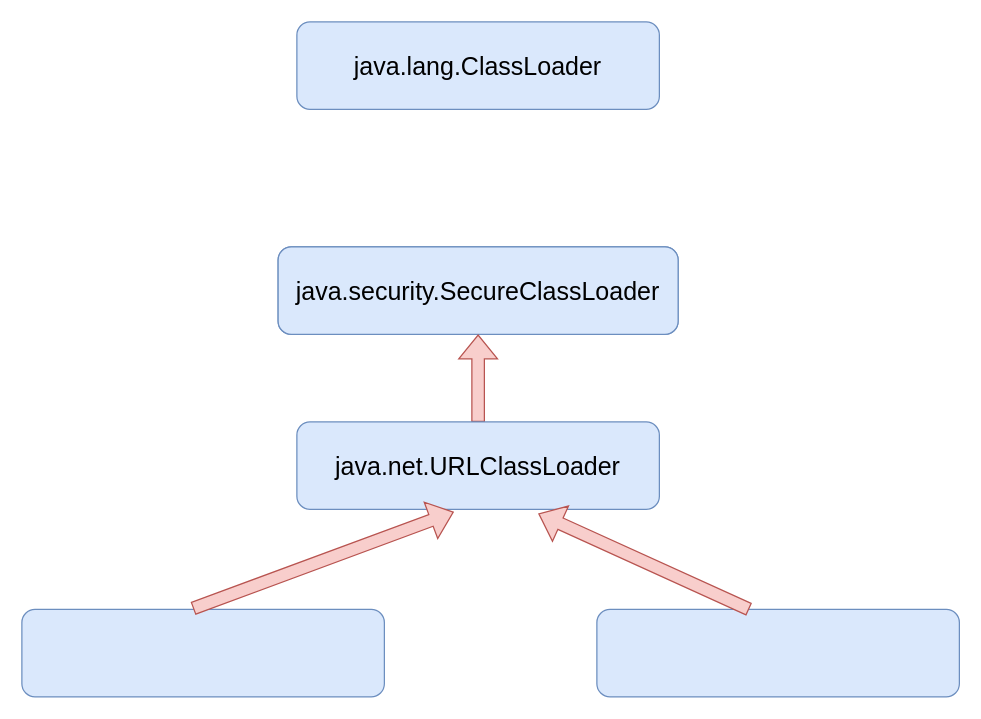
Image size: 981x719. Some labels were removed from this diagram. Here are the shapes that lost their labels. From the top down, the centre of each, then its label:
At point (202, 652): "sun.misc.ExtClassLoader".
At point (777, 652): "sun.misc.AppClassLoader".
